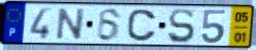4: (28, 6, 53, 41)
5: (200, 9, 228, 45)
6: (96, 8, 124, 42)
C: (126, 8, 158, 43)
N: (54, 7, 88, 41)
S: (166, 7, 196, 45)
